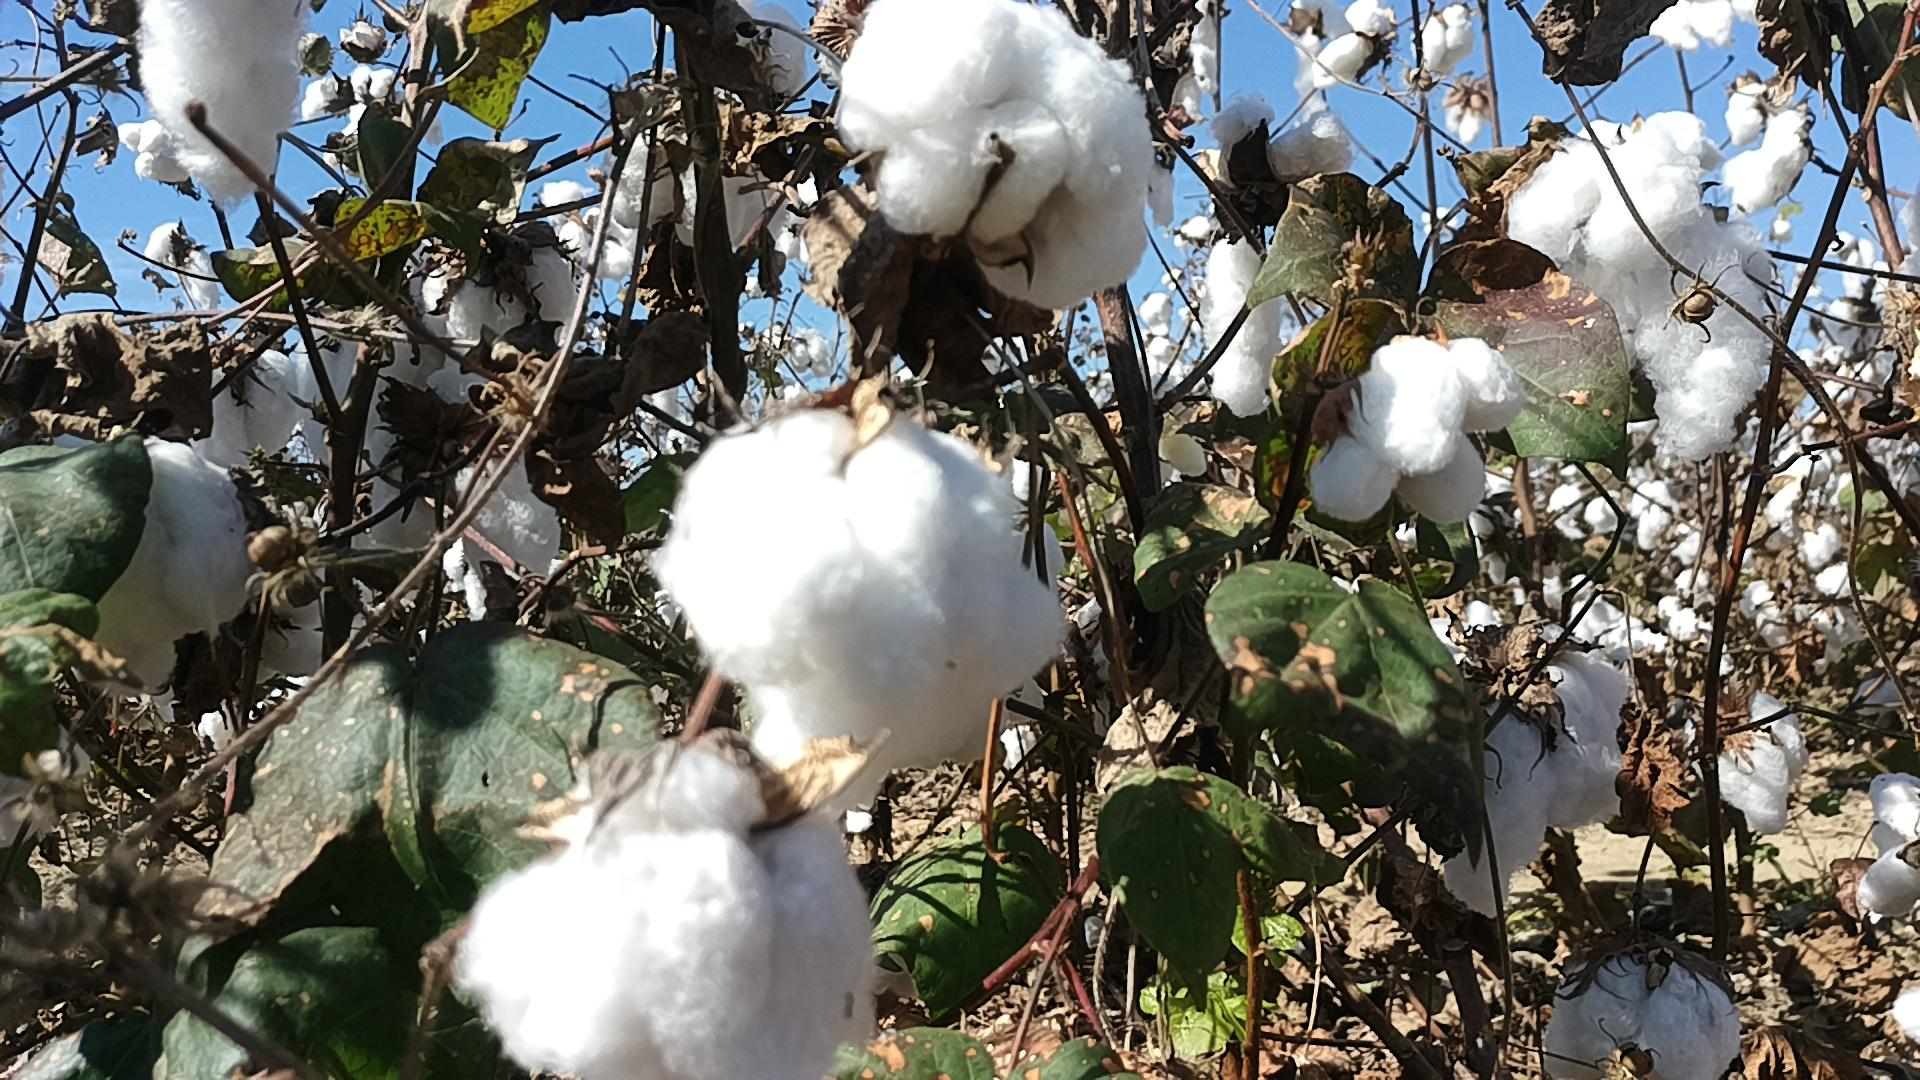cotton_ready: (650, 407, 1071, 803), (448, 742, 876, 1080), (832, 0, 1153, 315), (1506, 111, 1775, 463), (1436, 628, 1633, 924), (1196, 94, 1353, 415), (76, 435, 255, 703), (361, 376, 568, 582), (1316, 335, 1518, 527), (136, 0, 309, 211), (411, 164, 597, 356), (605, 105, 803, 262), (1542, 943, 1746, 1080), (298, 309, 458, 473), (1684, 687, 1811, 848), (190, 342, 301, 465), (713, 0, 820, 111), (1726, 82, 1809, 219), (1863, 767, 1920, 915), (1311, 0, 1394, 88), (1648, 0, 1771, 53)
